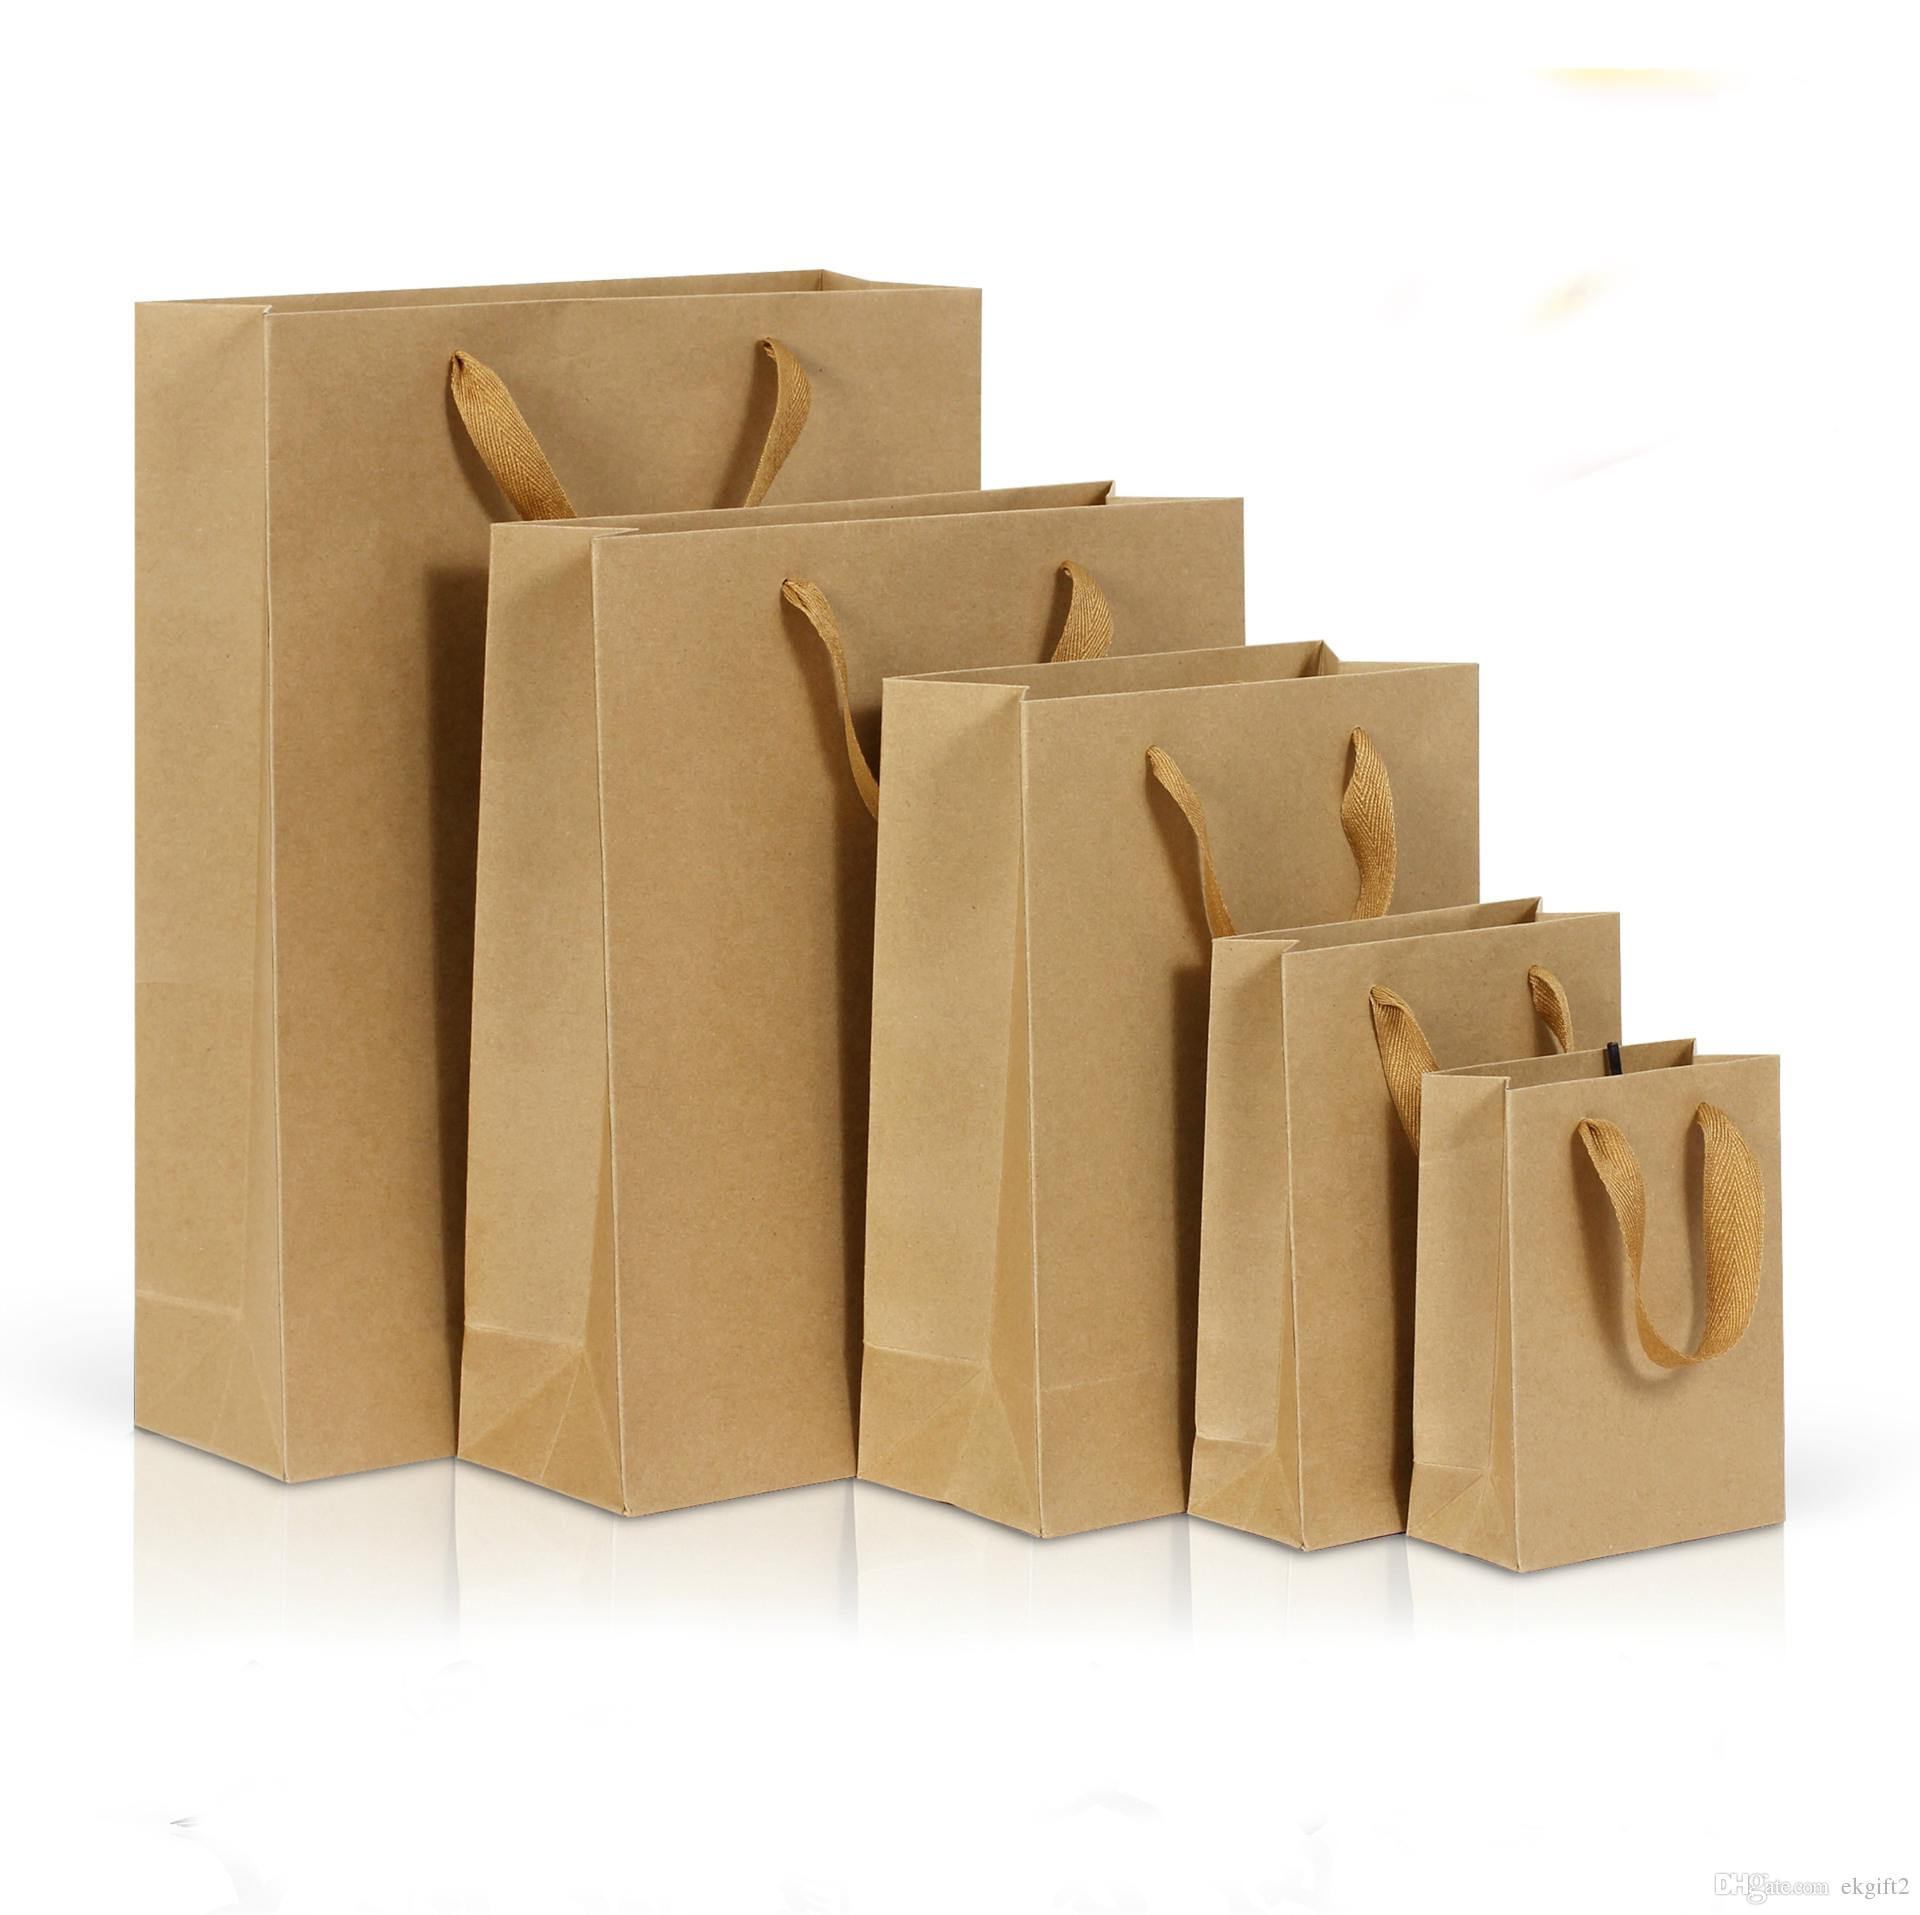Rec_Paper: (51, 181, 1857, 1659), (67, 281, 978, 1478), (449, 477, 1250, 1489), (831, 607, 1510, 1598), (1182, 873, 1634, 1529), (1389, 1012, 1810, 1594)
